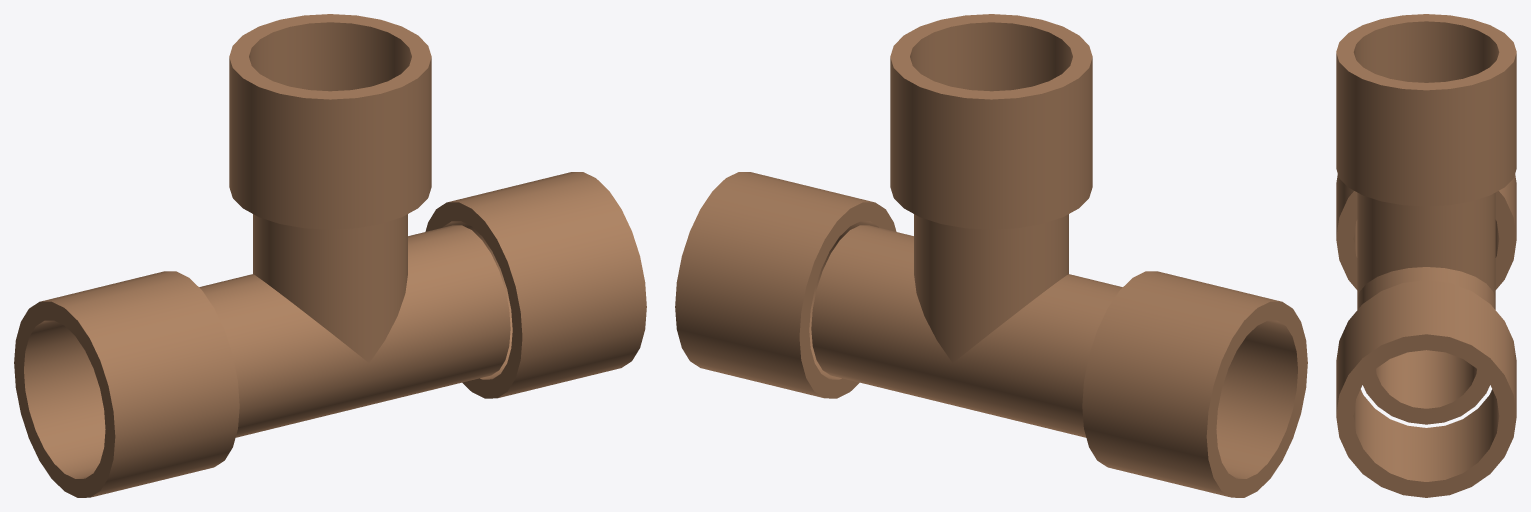
The model's file is HID-CNX-003.glb.
3 views of the same model, side by side, from view 1: azimuth 30°, elevation 25°; view 2: azimuth 150°, elevation 25°; view 3: azimuth 270°, elevation 25° (orthographic). The views are drawn at different scales.
Parts seen in each view (by area): view 1: HID-CNX-003_b1, HID-CNX-003_b3, HID-CNX-003_corpo, HID-CNX-003_b2, HID-CNX-003_ramal; view 2: HID-CNX-003_b1, HID-CNX-003_b3, HID-CNX-003_corpo, HID-CNX-003_b2, HID-CNX-003_ramal; view 3: HID-CNX-003_b3, HID-CNX-003_b2, HID-CNX-003_ramal, HID-CNX-003_corpo, HID-CNX-003_b1.
Boxes of the visible parts, x1,y1,x2,y2 form: HID-CNX-003_b1: (14,271,239,497); HID-CNX-003_b3: (229,14,431,229); HID-CNX-003_corpo: (199,225,510,437); HID-CNX-003_b2: (425,172,646,398); HID-CNX-003_ramal: (253,214,407,362); HID-CNX-003_b1: (1082,271,1307,497); HID-CNX-003_b3: (890,14,1092,229); HID-CNX-003_corpo: (811,225,1122,437); HID-CNX-003_b2: (675,172,896,398); HID-CNX-003_ramal: (914,214,1068,362); HID-CNX-003_b3: (1336,14,1516,206); HID-CNX-003_b2: (1336,280,1516,497); HID-CNX-003_ramal: (1357,192,1495,299); HID-CNX-003_corpo: (1357,267,1495,424); HID-CNX-003_b1: (1336,174,1516,289).
Bounding box in the file's own units: 0.094 × 0.0625 × 0.031.
